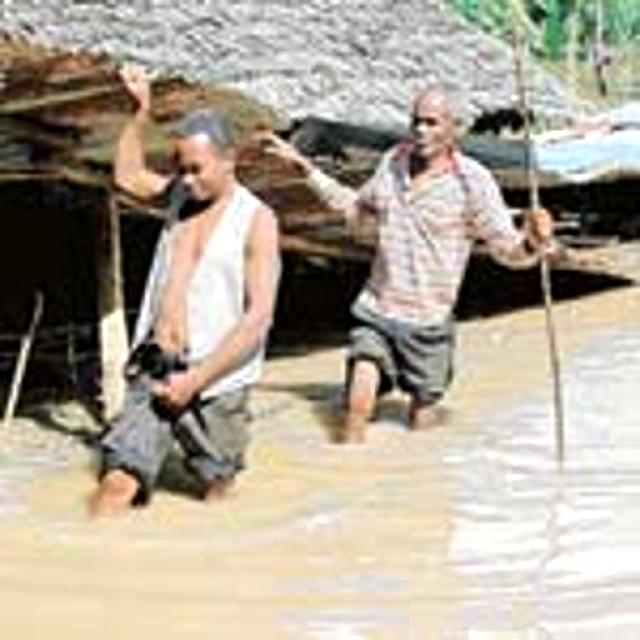civilian: (69, 28, 310, 579), (247, 75, 566, 455)
